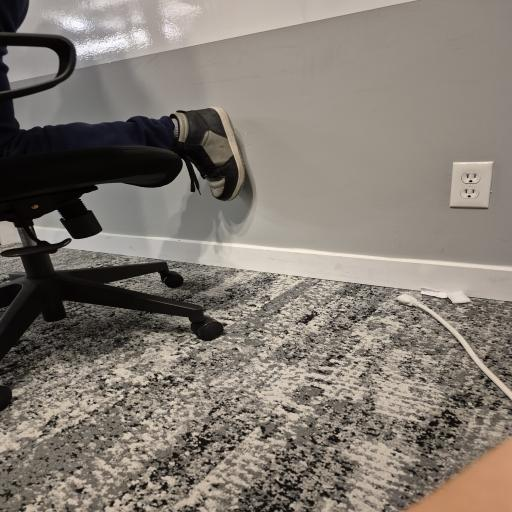outlet: (452, 163, 495, 207)
